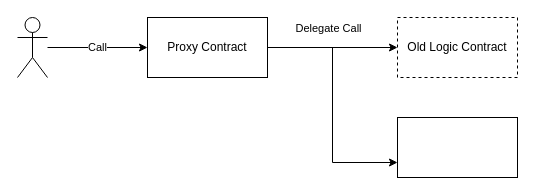
Image size: 535x195. Some labels were removed from this diagram. The centre of each missing label's shape, as x and y in pixels:
Actor: point 32,47
New Logic Contract: point 457,147
